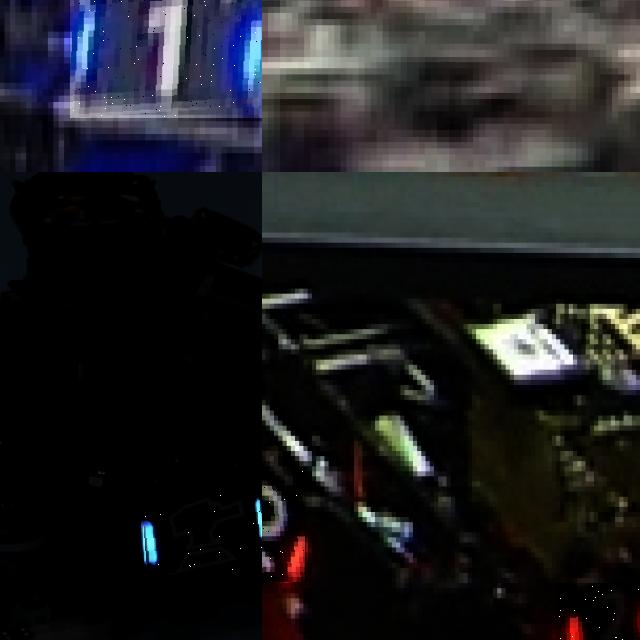B1: (69, 0, 262, 118)
Bs: (141, 495, 262, 572)
R2: (262, 471, 307, 582), (556, 583, 640, 640)
